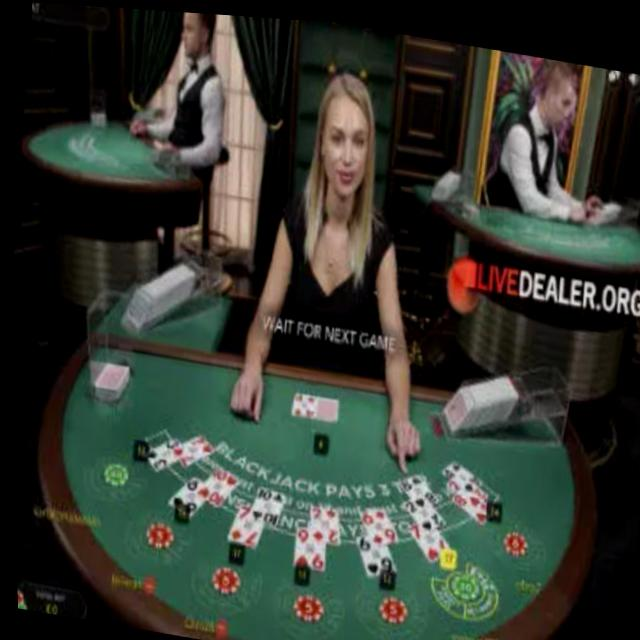Card-10: (195, 463, 236, 504), (247, 482, 283, 523)
Card-2: (398, 492, 442, 525), (307, 500, 337, 540), (443, 470, 484, 498)
Card-3: (143, 432, 178, 469)
Card-4: (288, 386, 314, 414)
Card-6: (352, 529, 393, 572), (164, 471, 202, 517), (356, 501, 395, 539)
Card-7: (404, 515, 448, 556), (224, 499, 261, 545), (171, 430, 210, 465)
Card-8: (392, 465, 435, 502), (449, 485, 491, 518)
Card-9: (289, 522, 322, 567)
Card-A: (438, 452, 479, 483)
